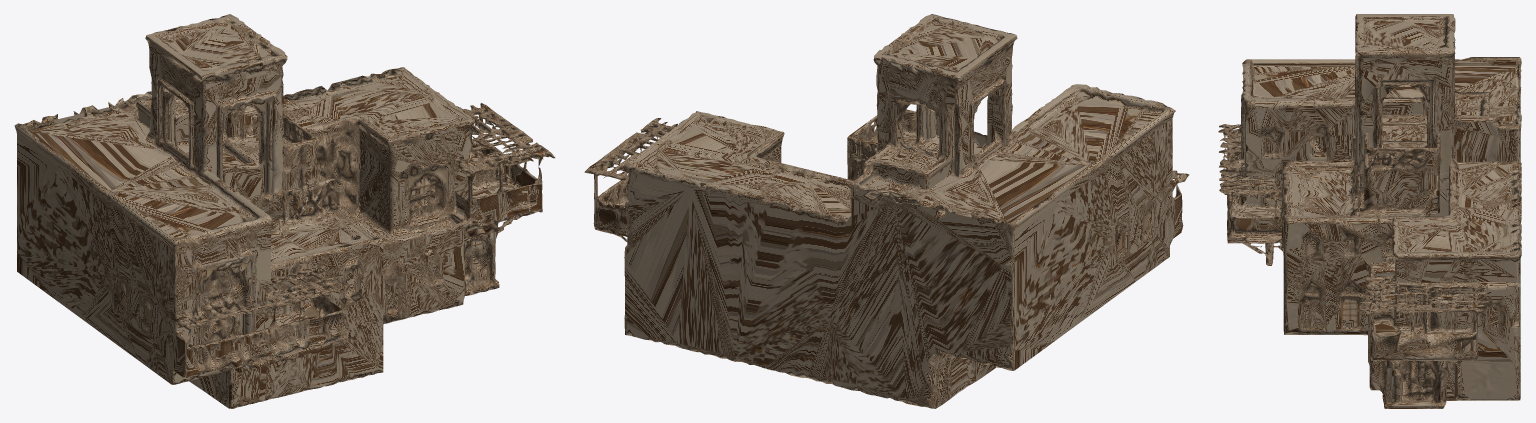
File: lagoon_b_lod1.glb
3 views of the same model, side by side, from view 1: azimuth 30°, elevation 25°; view 2: azimuth 150°, elevation 25°; view 3: azimuth 270°, elevation 25° (orthographic). The views are drawn at different scales.
Size of the model in its own units: 1.98 by 1.27 by 1.33.
Materials: 1 (1 with a texture image).
